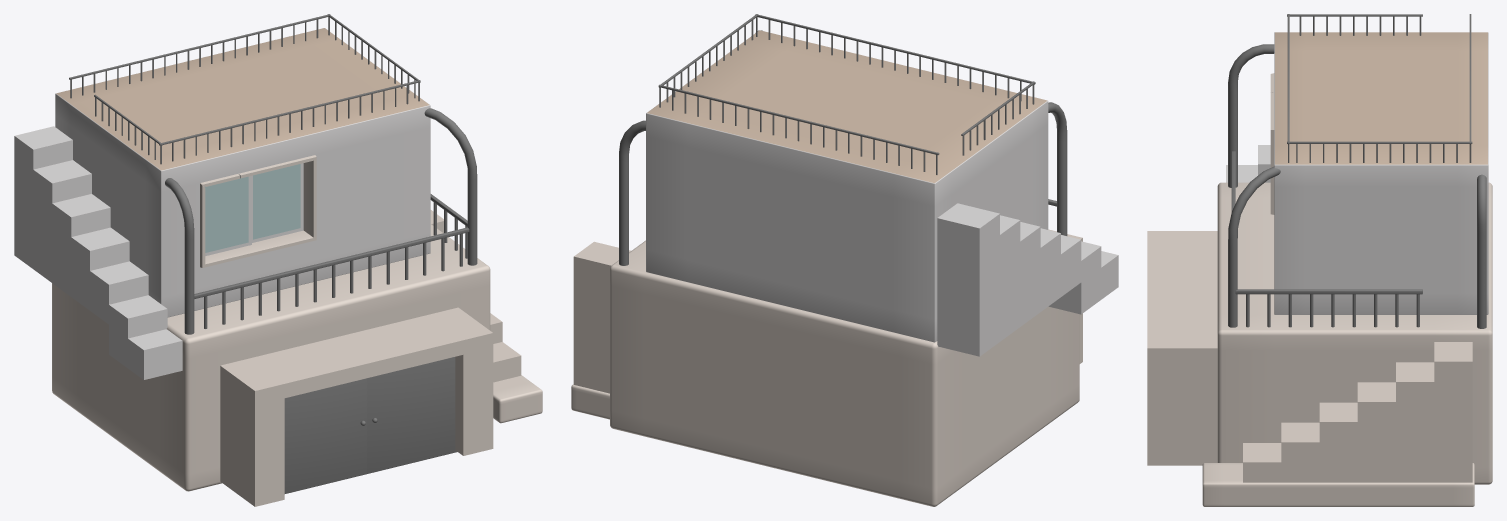
File: house2.glb
3 renders of one model, left to right at view 1: azimuth 30°, elevation 25°; view 2: azimuth 150°, elevation 25°; view 3: azimuth 270°, elevation 25°, orthographic. The views are drawn at different scales.
Visible parts, largest first — view 1: 2층빌라_1; view 2: 2층빌라_1; view 3: 2층빌라_1.
Part boxes in pixels (x1,y1,x2,y2): 2층빌라_1: [14, 14, 542, 506]; 2층빌라_1: [571, 14, 1118, 506]; 2층빌라_1: [1147, 14, 1492, 506].
Size of the model in its own units: 20.34 by 16.14 by 15.53.
